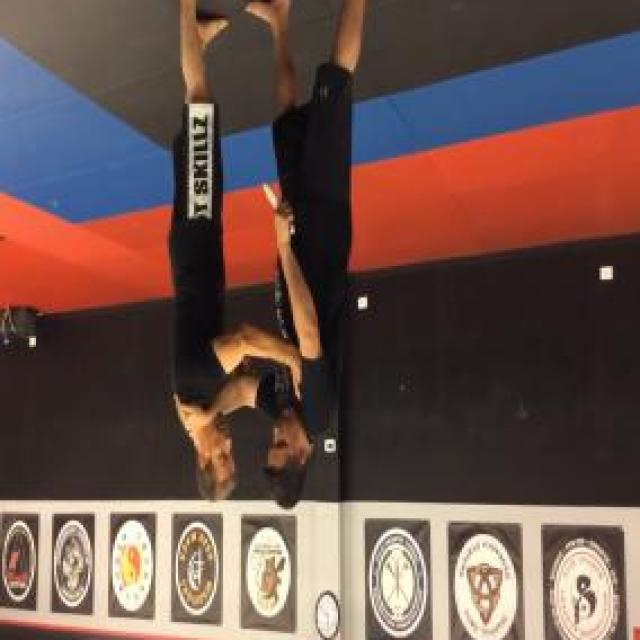knife: (262, 179, 298, 239)
